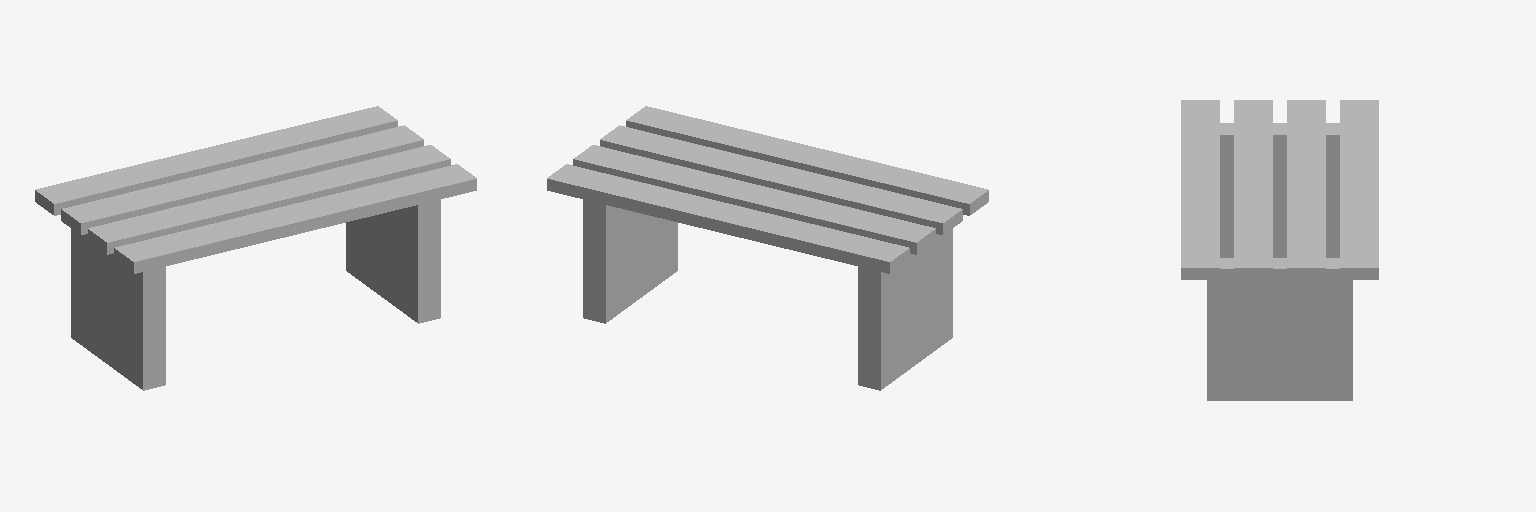
The model's file is Bench.obj.
The picture shows the model from 3 angles: view 1: azimuth 30°, elevation 25°; view 2: azimuth 150°, elevation 25°; view 3: azimuth 270°, elevation 25°; orthographic projection.
Visible parts, largest first — view 1: Bench; view 2: Bench; view 3: Bench.
Part boxes in pixels (x1,y1,x2,y2): Bench: (35, 106, 476, 390); Bench: (547, 106, 988, 390); Bench: (1181, 100, 1378, 400).
Bounding box in the file's own units: 30 × 12 × 15.